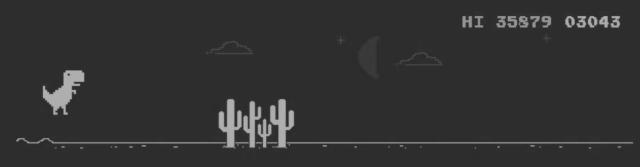cactus: (270, 99, 294, 147), (219, 99, 242, 148), (243, 102, 261, 147), (258, 119, 271, 147)
